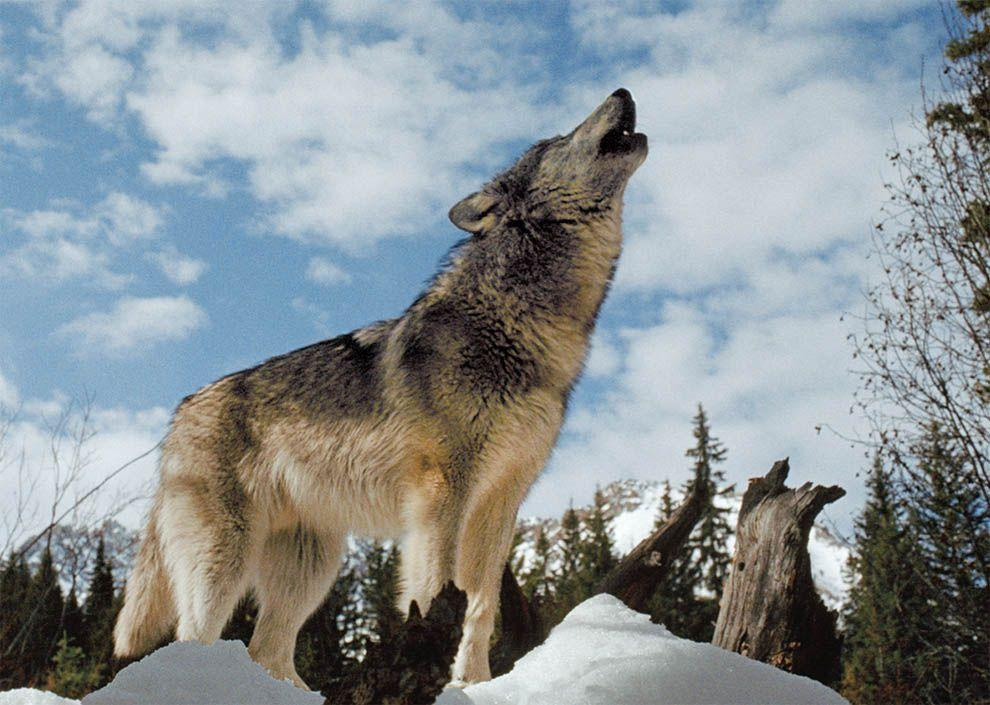Wolf: (115, 80, 655, 705)
